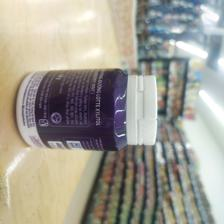Xylitol_BTS: (13, 65, 159, 157)
